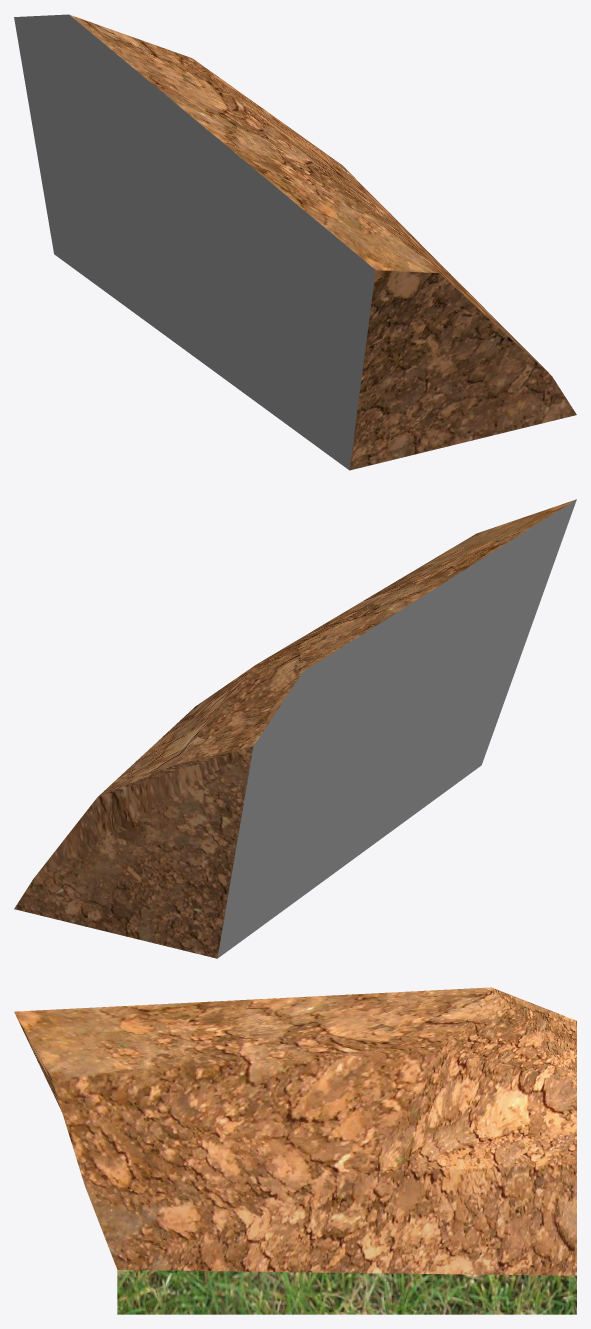
The model's file is slope3tbd.fbx.
3 views of the same model, one above another, from view 1: azimuth 30°, elevation 25°; view 2: azimuth 150°, elevation 25°; view 3: azimuth 270°, elevation 25° (orthographic). The views are drawn at different scales.
Parts seen in each view (by area): view 1: pCube1; view 2: pCube1; view 3: pCube1.
Boxes of the visible parts, <box> form: pCube1: <box>14,14,576,470</box>; pCube1: <box>14,499,576,958</box>; pCube1: <box>14,987,576,1314</box>.
Bounding box in the file's own units: 6.65 × 6.89 × 15.58.
3 materials, 2 textured.
